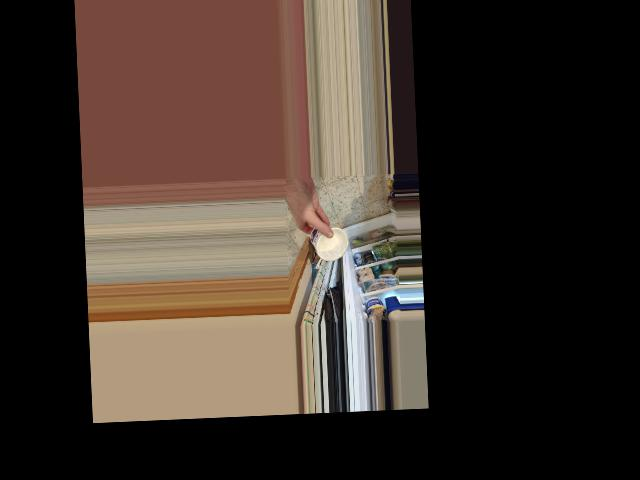cotage: (307, 224, 349, 263)
